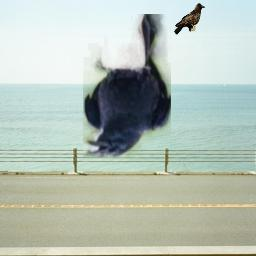Crow: (83, 14, 171, 157), (174, 2, 205, 36)
